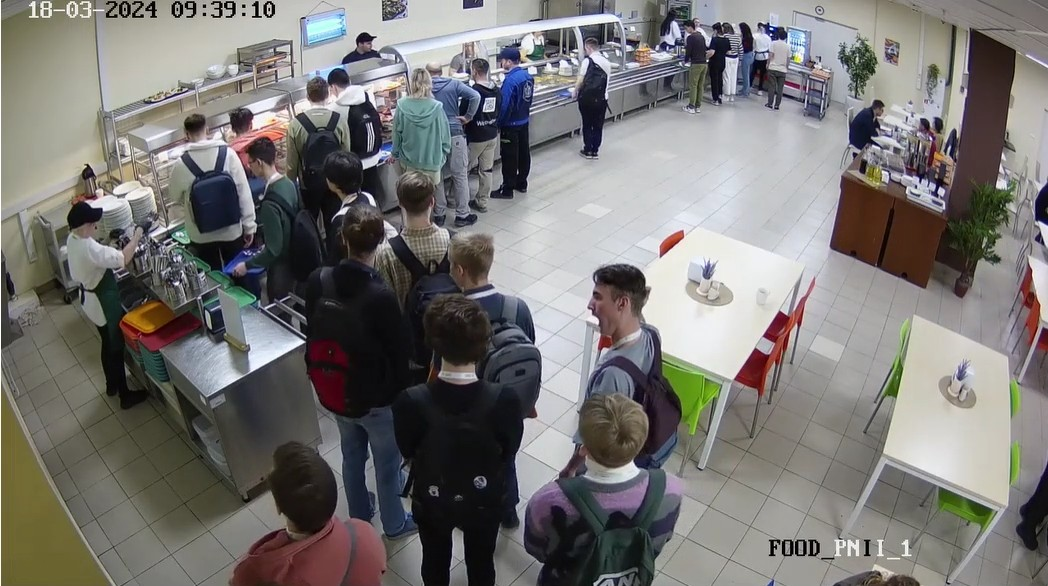Na_Kasse: (765, 27, 797, 109), (706, 23, 725, 108), (685, 22, 702, 115), (751, 16, 769, 96), (724, 18, 737, 101), (740, 16, 752, 95)
Ne_v_Ocheredi: (382, 300, 512, 586), (308, 210, 401, 528), (539, 381, 680, 586), (232, 431, 388, 586), (577, 265, 681, 454), (443, 234, 543, 416), (386, 170, 460, 337), (318, 152, 373, 246), (817, 556, 930, 586)
Personal: (46, 195, 146, 414), (517, 14, 556, 63), (653, 5, 679, 50), (353, 29, 382, 58)
Vybiraet: (156, 111, 241, 282), (223, 139, 306, 301), (283, 64, 342, 199), (388, 57, 444, 188), (427, 62, 470, 220), (316, 60, 373, 165), (495, 50, 529, 194), (469, 53, 497, 214), (577, 41, 607, 157), (235, 98, 271, 165)
Za_Stolom: (849, 105, 885, 155), (1024, 176, 1048, 251), (906, 111, 933, 141)
